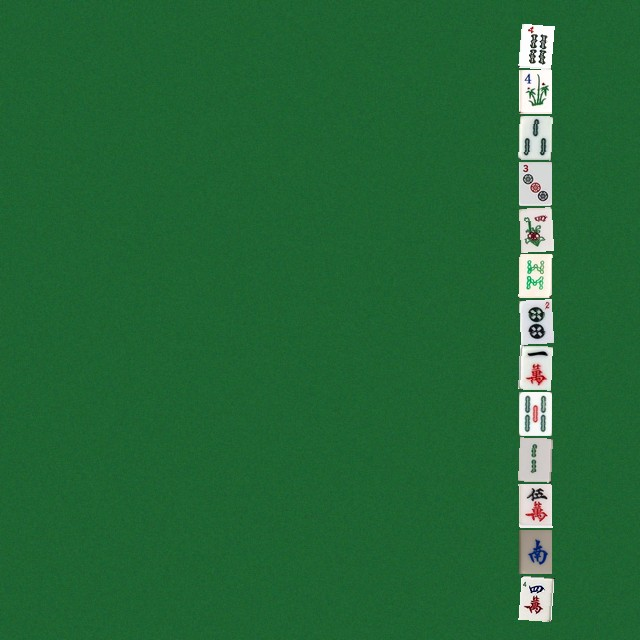tile: (518, 23, 551, 67), (518, 69, 551, 113), (518, 115, 551, 159), (518, 161, 551, 205), (518, 207, 551, 251), (518, 253, 551, 297), (518, 299, 551, 343), (518, 345, 551, 389), (518, 391, 551, 435), (518, 437, 551, 481), (518, 483, 551, 527), (518, 529, 551, 573), (518, 575, 551, 619)
